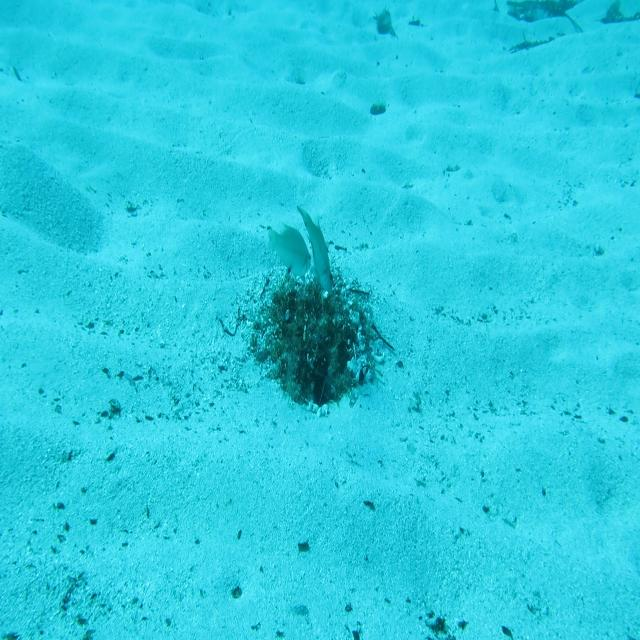H_DOWN: (295, 196, 343, 302)
female: (261, 209, 314, 283)
nest: (234, 259, 386, 418)
